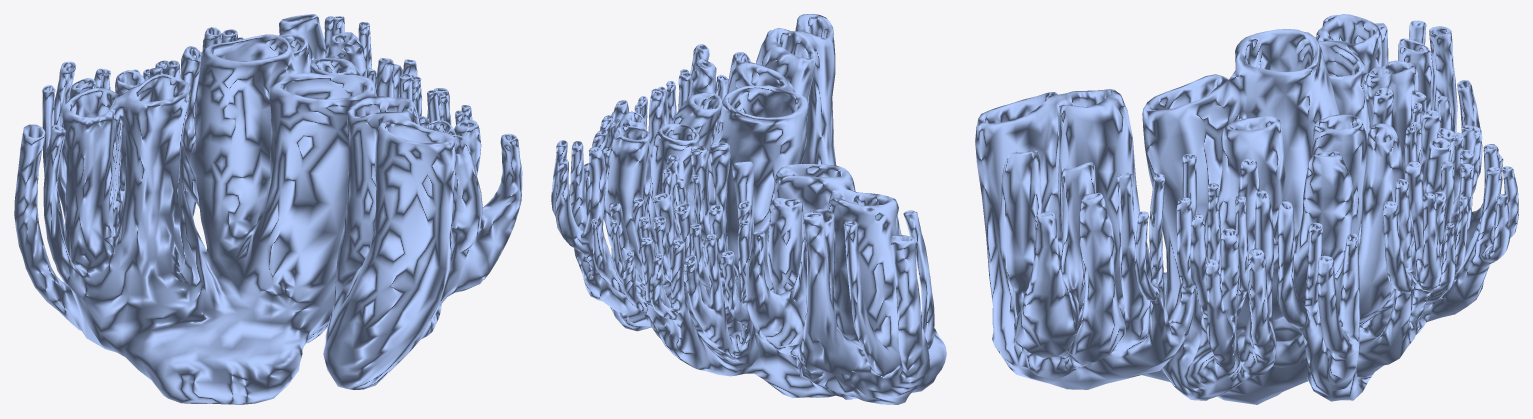
File: Smooth_Edoplasmic_Reticulum.fbx
3 renders of one model, left to right at view 1: azimuth 30°, elevation 25°; view 2: azimuth 150°, elevation 25°; view 3: azimuth 270°, elevation 25°, orthographic. The views are drawn at different scales.
Visible parts, largest first — view 1: Smooth_Endoplasmic_reticulum; view 2: Smooth_Endoplasmic_reticulum; view 3: Smooth_Endoplasmic_reticulum.
Part boxes in pixels (x1,y1,x2,y2): Smooth_Endoplasmic_reticulum: (14,14,522,404); Smooth_Endoplasmic_reticulum: (551,14,946,404); Smooth_Endoplasmic_reticulum: (975,14,1518,404).
Bounding box in the file's own units: 1039 × 762 × 1038.
